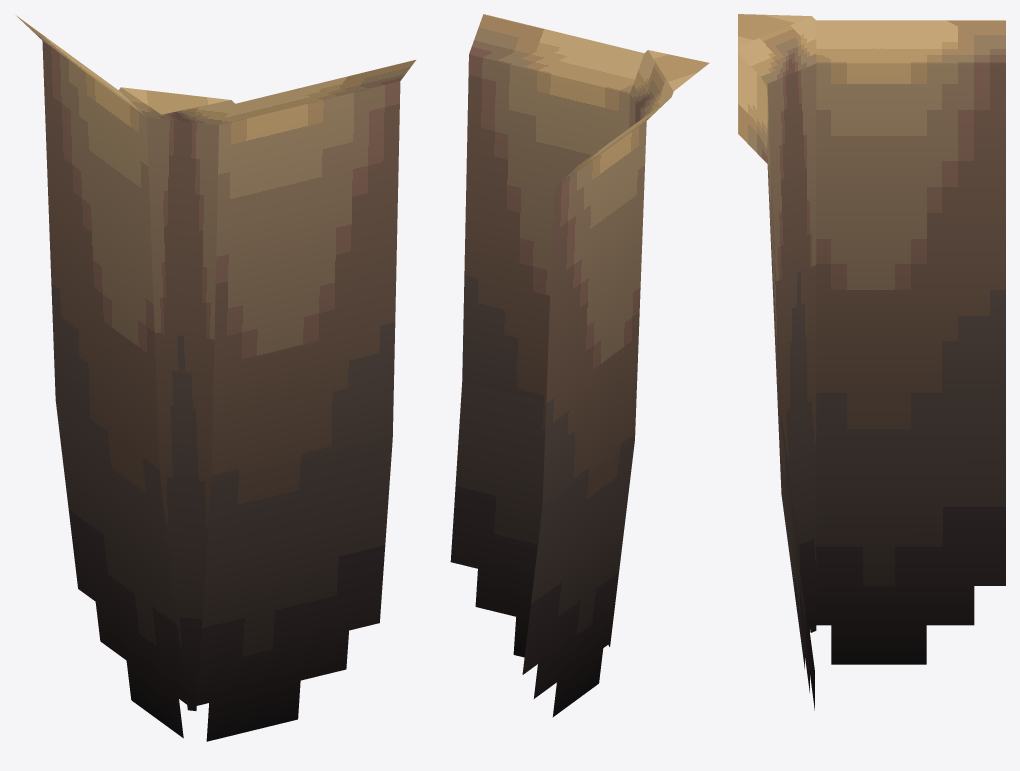
The picture shows the model from 3 angles, left to right: view 1: azimuth 30°, elevation 25°; view 2: azimuth 150°, elevation 25°; view 3: azimuth 270°, elevation 25°; orthographic projection. The views are drawn at different scales.
Bounding box in the file's own units: 1 × 2.59 × 1.
Materials: 1 (1 with a texture image).
